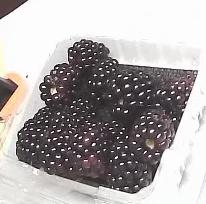berry: (67, 121, 126, 176), (129, 106, 177, 164), (109, 130, 153, 192), (41, 112, 84, 174), (15, 106, 56, 169), (107, 71, 154, 115), (39, 63, 82, 108), (152, 77, 195, 120), (88, 58, 120, 105), (69, 39, 110, 75)
